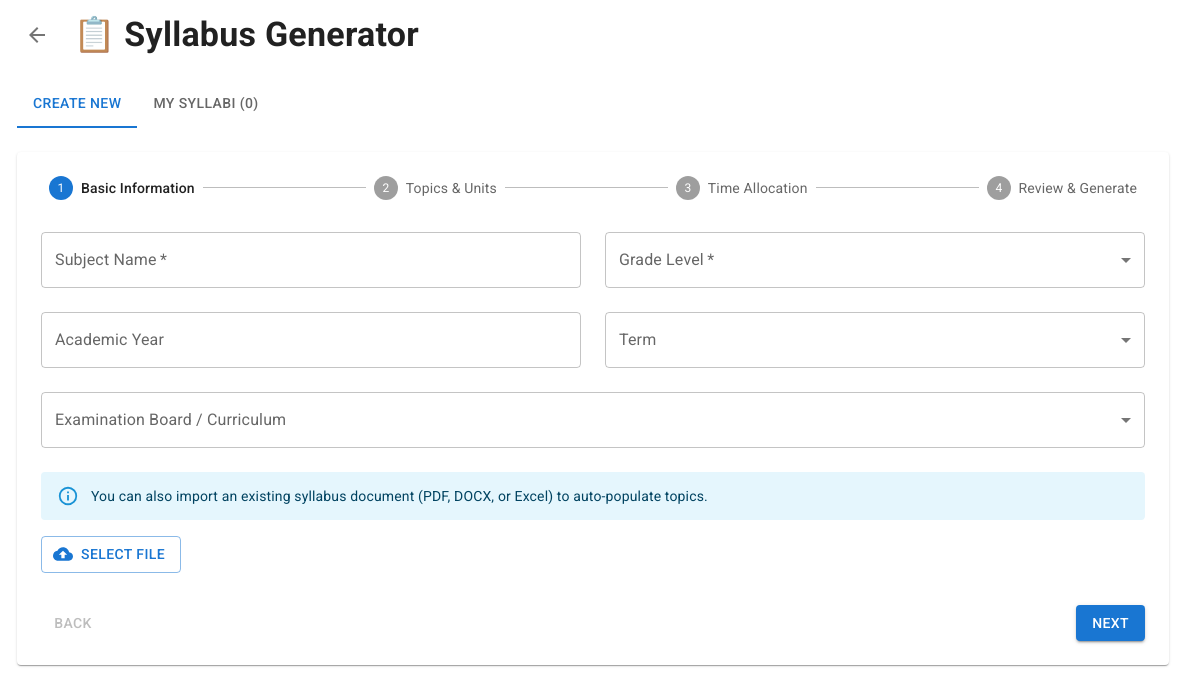
SyllabusGenerator Component › handles empty syllabi list
The image size is (1187, 684).
Click the tab "My Syllabi (0)".
click(206, 104)  # box [137, 80, 275, 128]
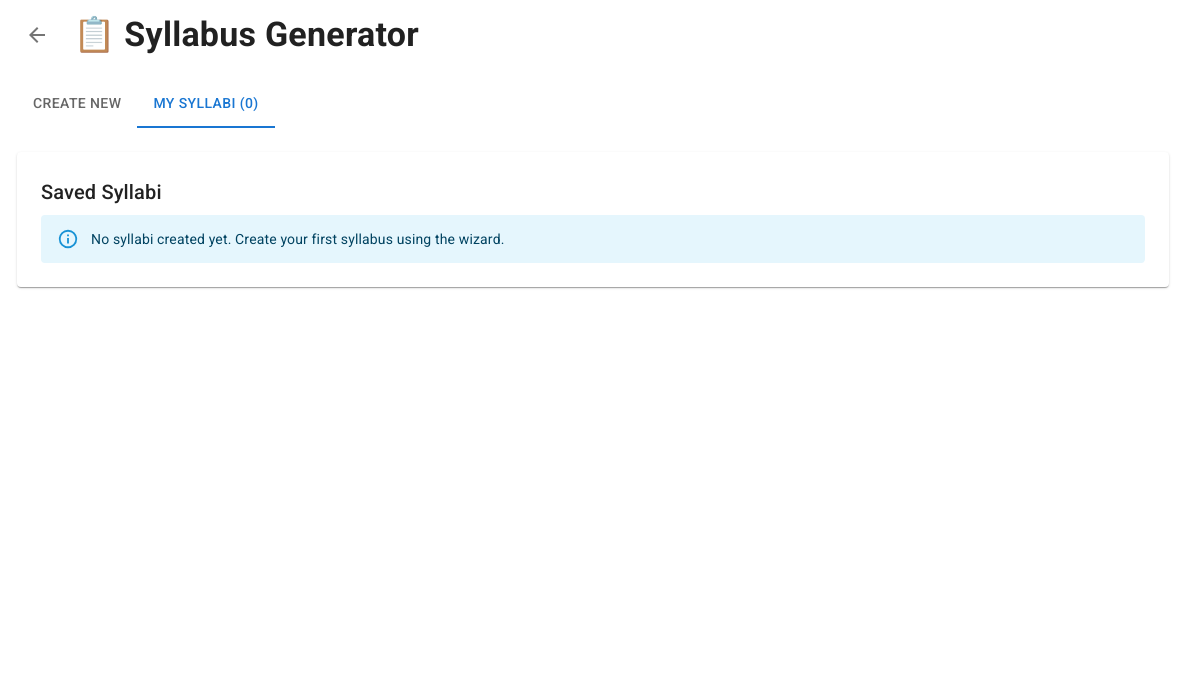
Expected: the text "No syllabi created yet" is shown, [91, 231, 504, 247]
